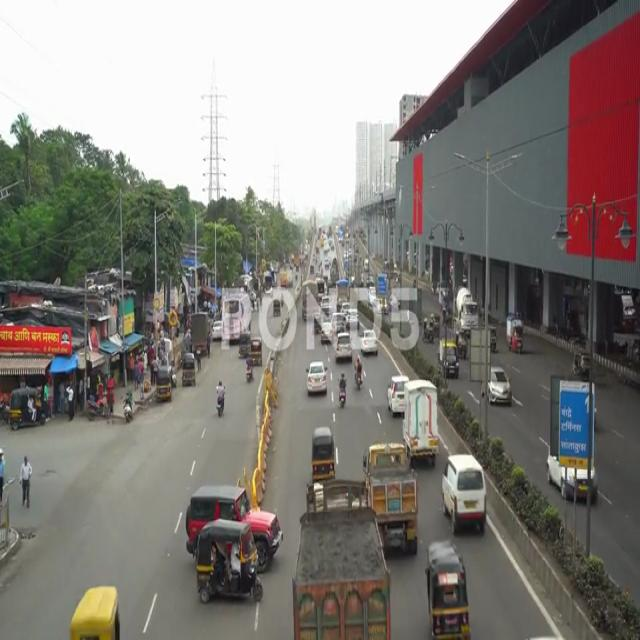car: (440, 456, 489, 530), (307, 354, 328, 404), (492, 362, 512, 411)
motorbike: (215, 377, 225, 423), (337, 373, 348, 411)
person: (20, 454, 32, 516)
rikshaw: (197, 520, 262, 611), (424, 543, 472, 640), (73, 572, 124, 640), (310, 426, 338, 477)
truck: (293, 478, 386, 640), (364, 438, 418, 562), (405, 374, 438, 469)
